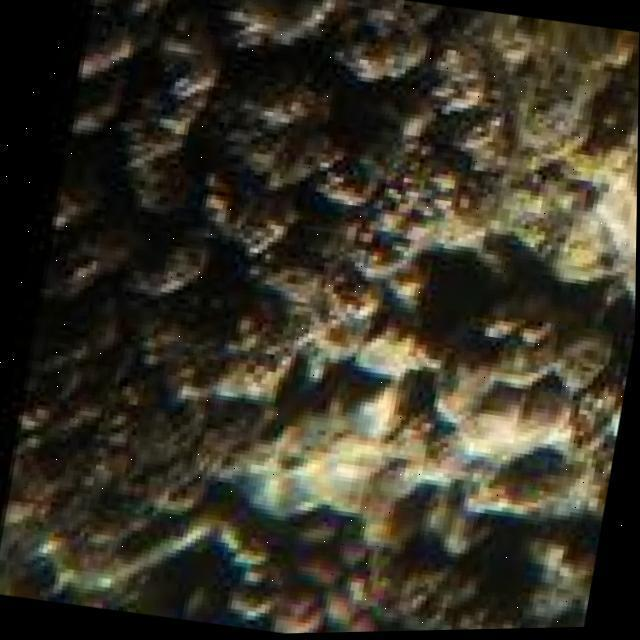Dead Coral: (1, 0, 467, 531)
Healthy Coral: (260, 538, 376, 632)
